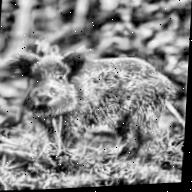boar: (0, 31, 184, 170)
